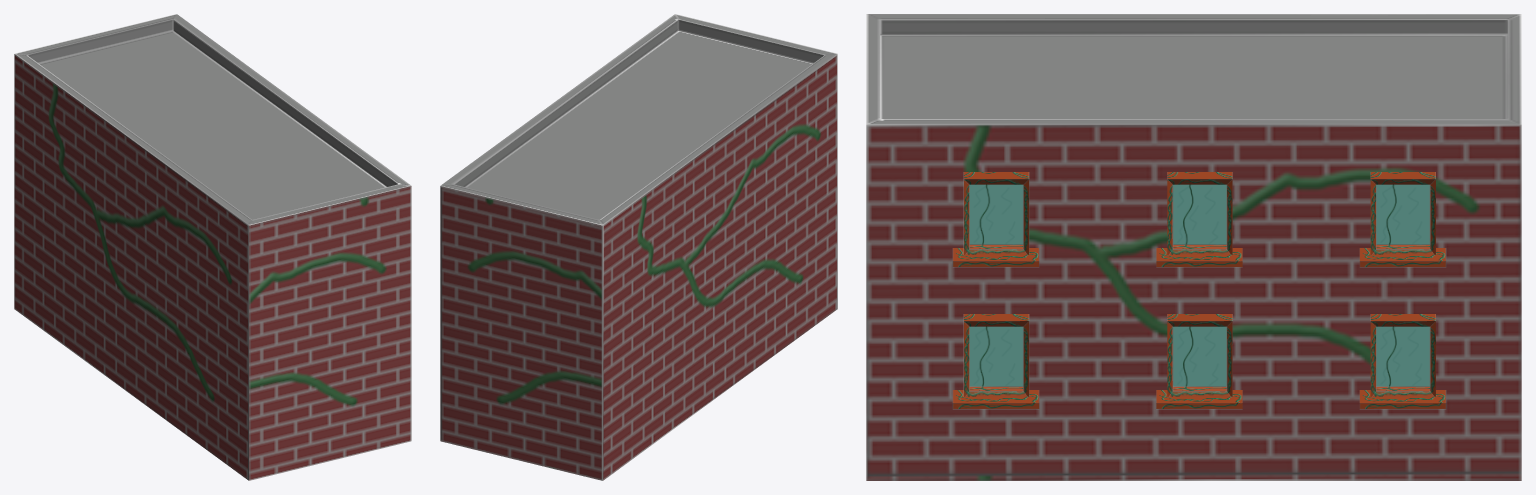
File: Apartment_3x2.fbx
The picture shows the model from 3 angles, left to right: view 1: azimuth 30°, elevation 25°; view 2: azimuth 150°, elevation 25°; view 3: azimuth 270°, elevation 25°; orthographic projection. The views are drawn at different scales.
Visible parts, largest first — view 1: pCube118; view 2: pCube118; view 3: pCube118.
Part boxes in pixels (x1,y1,x2,y2): pCube118: [14, 14, 411, 480]; pCube118: [440, 14, 837, 480]; pCube118: [866, 14, 1521, 480].
Bounding box in the file's own units: 4.47 × 6 × 10.
